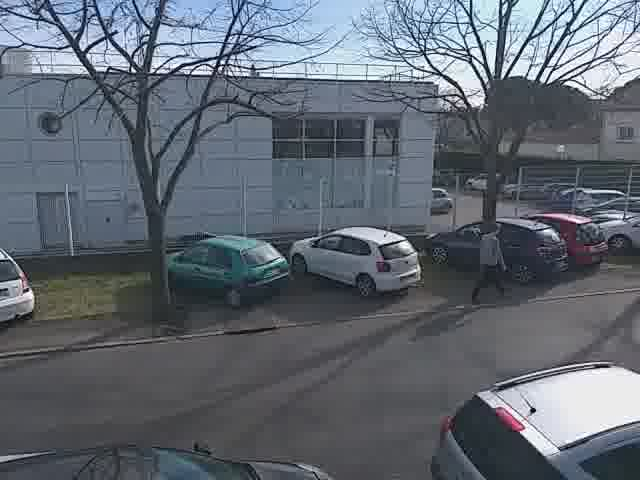persona: (474, 210, 513, 303)
